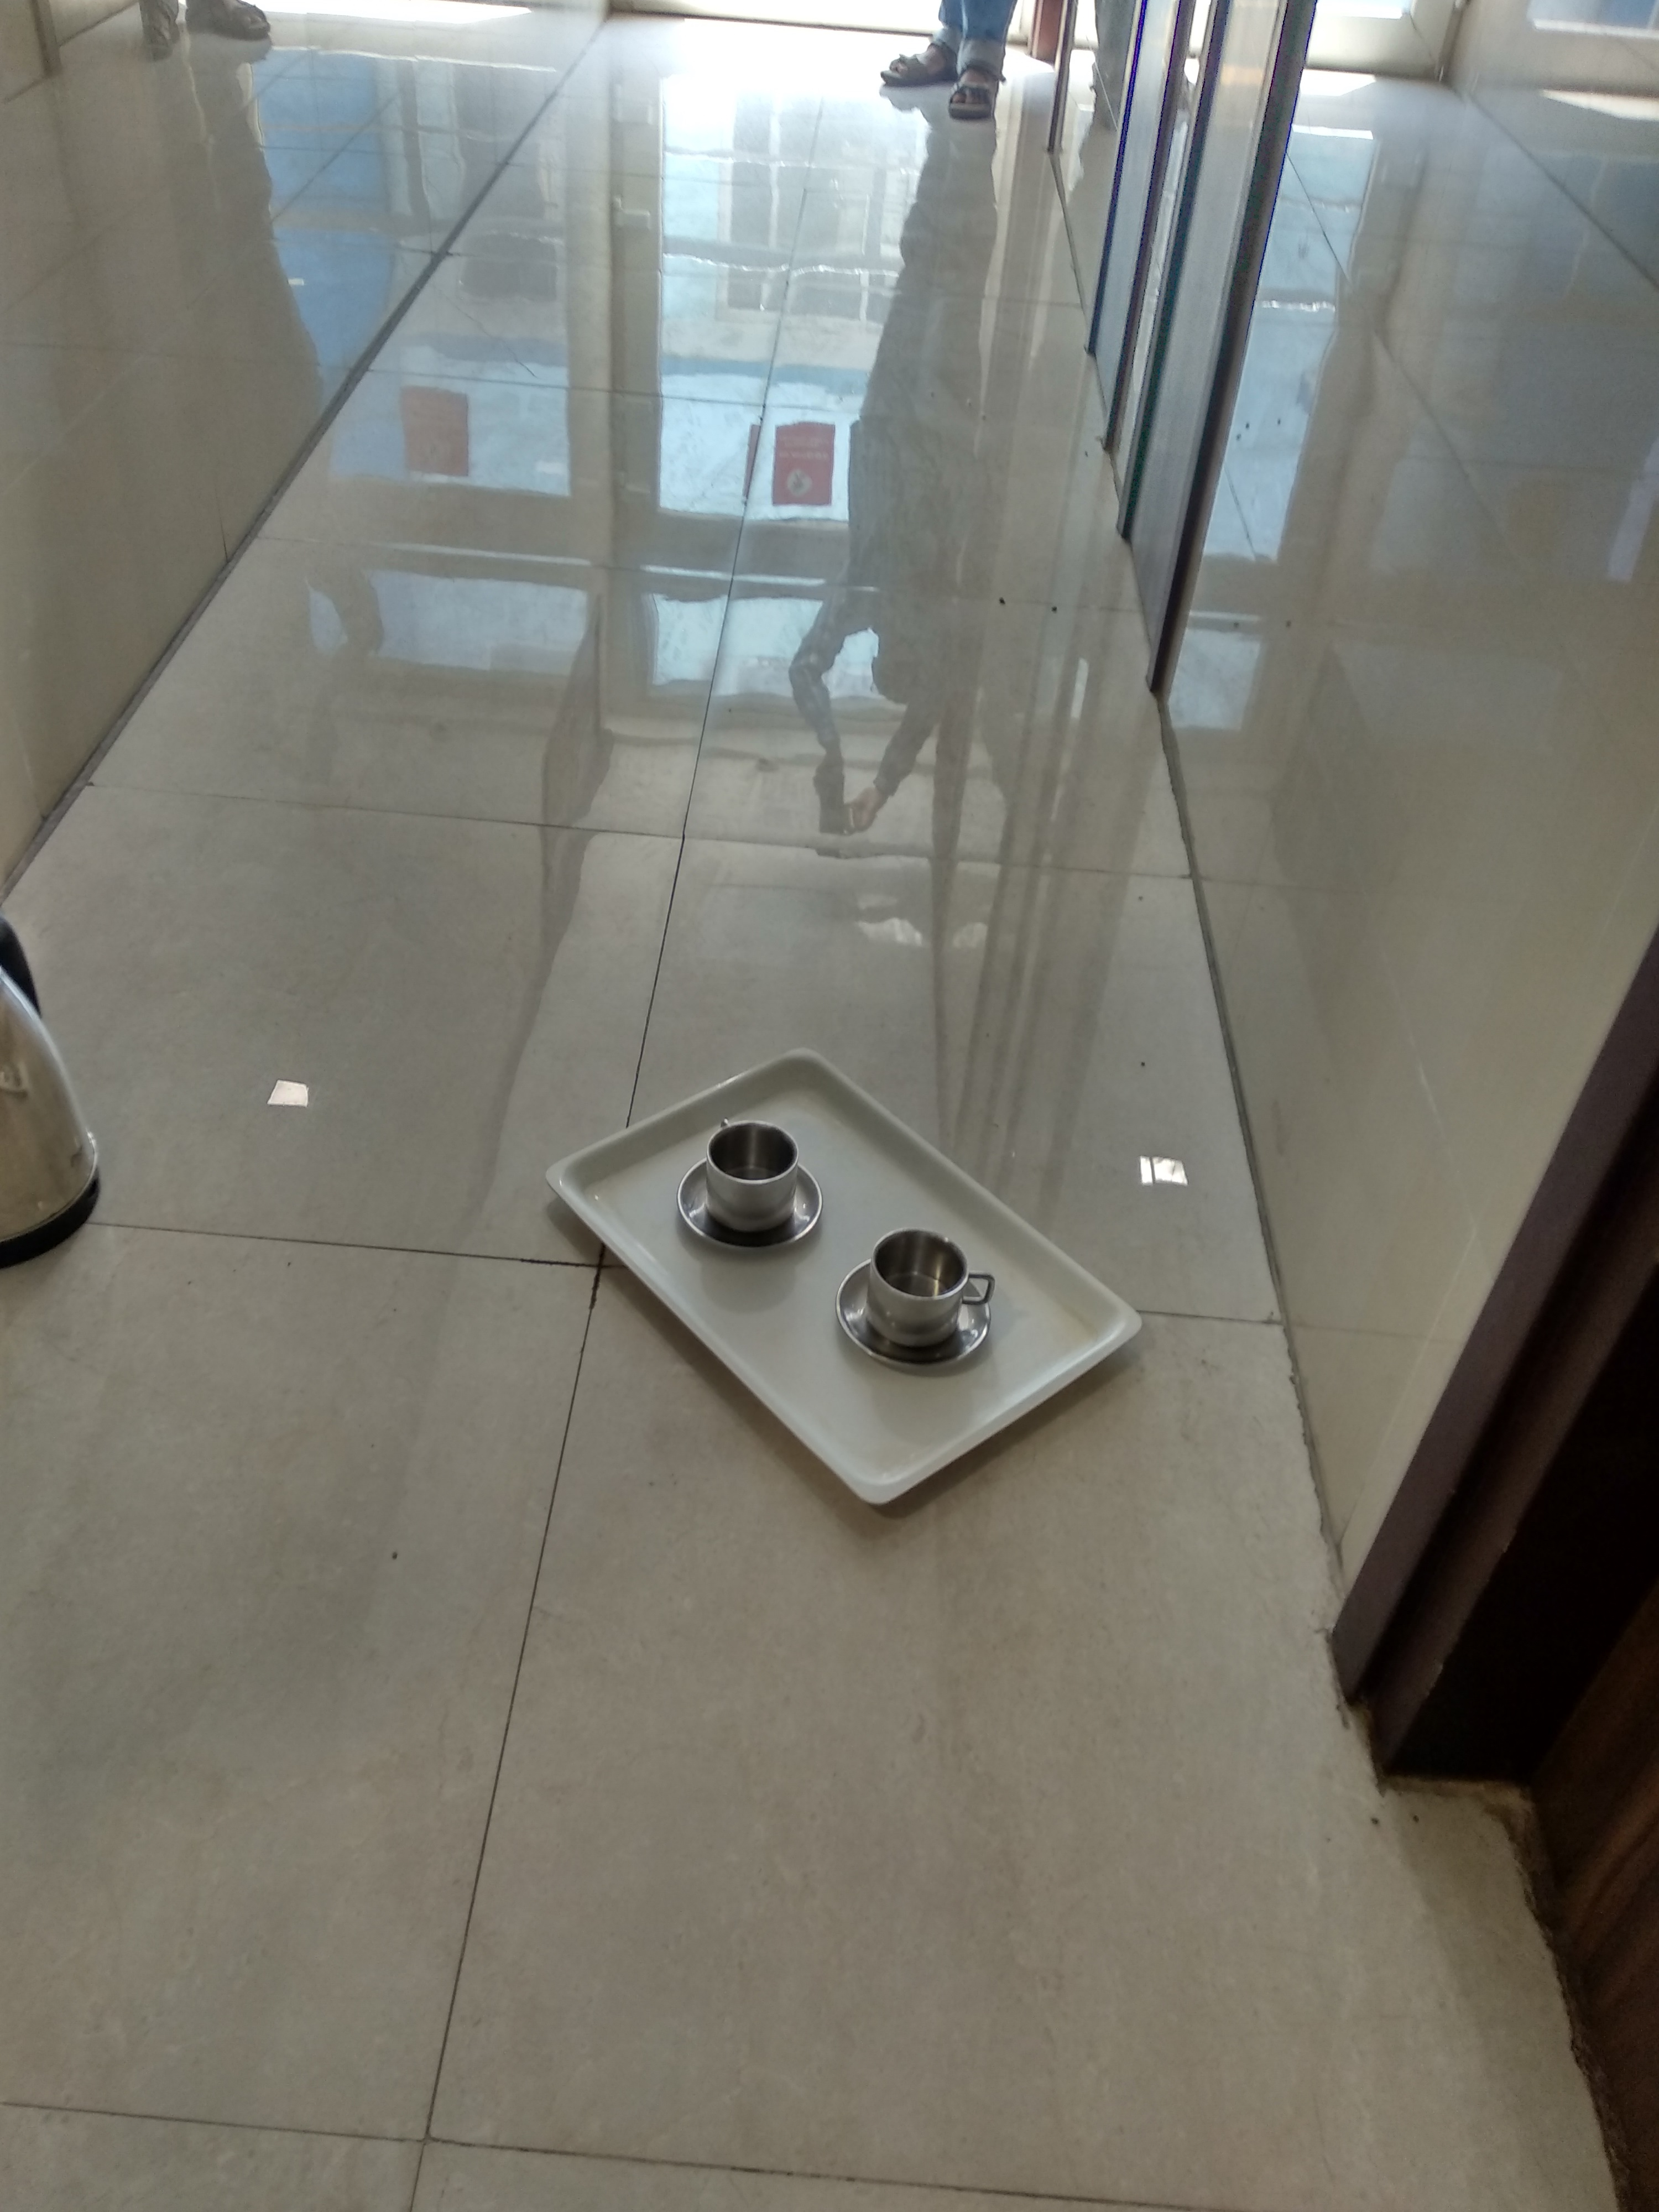CUP: (836, 1224, 1002, 1371), (681, 1116, 824, 1254)
